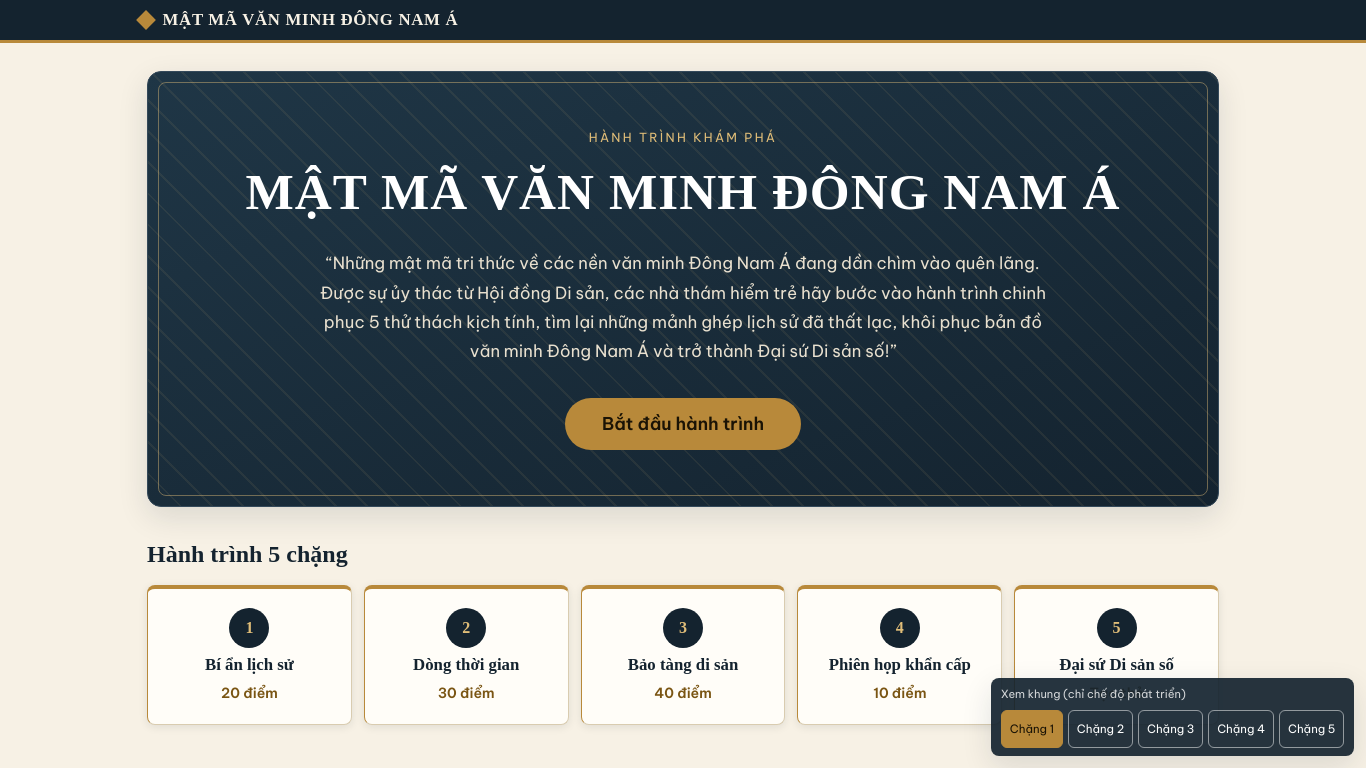
Test: Chặng 5 - Bước 1 › thiếu thông tin: hiện thông báo tại từng trường, không sang Bước 2
The image size is (1366, 768).
Click the button "Chặng 5".
click(1312, 729)  # box [1279, 710, 1344, 748]
(page scrolled)
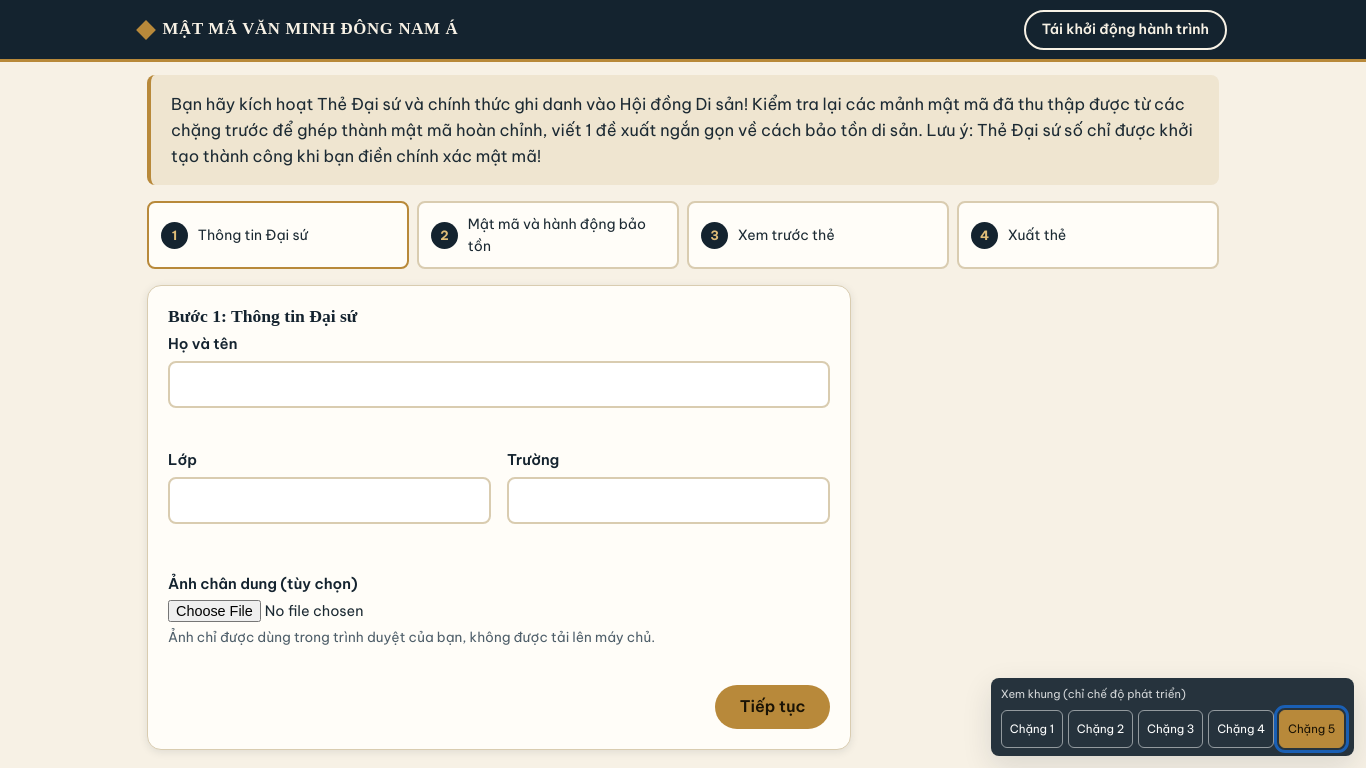
Type "An" into the field labelled "Họ và tên".
click(499, 384); type("An")  # box [168, 361, 830, 408]
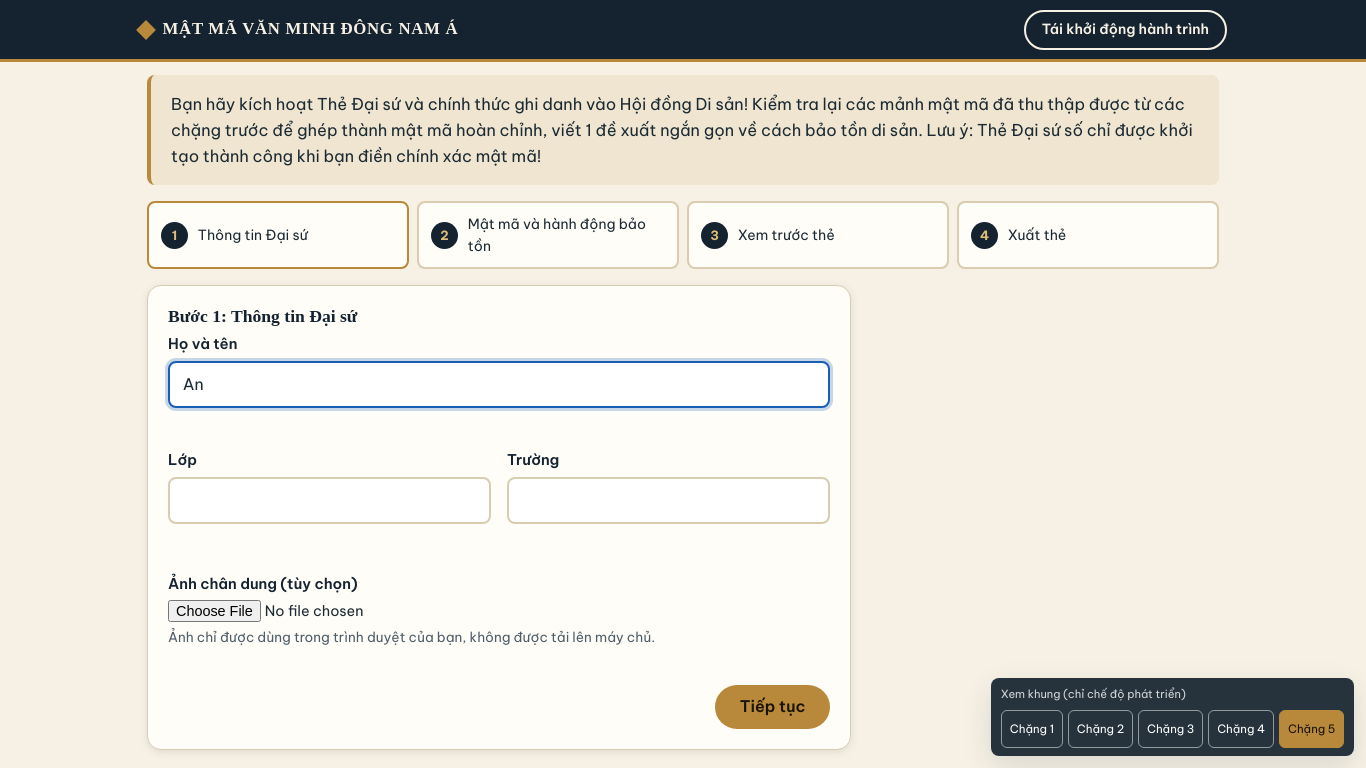
Click the button "Tiếp tục".
click(773, 707)  # box [715, 685, 830, 729]
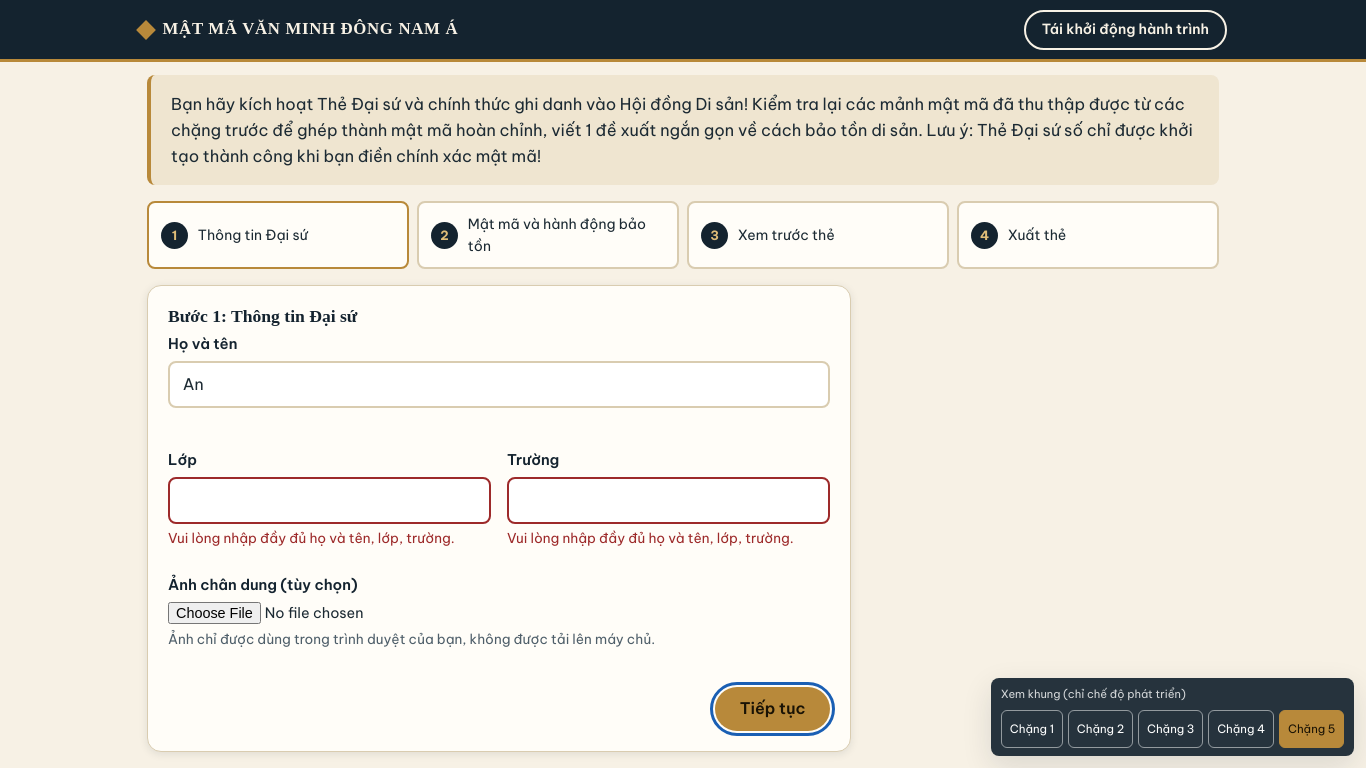
Check: the number of messages is 2, box [168, 528, 491, 550]; [507, 528, 830, 550]
Check: the 1st message "Vui lòng nhập đầy đủ họ và tên, lớp, trường." is shown, box [168, 528, 491, 550]
Check: the 2nd message "Vui lòng nhập đầy đủ họ và tên, lớp, trường." is shown, box [507, 528, 830, 550]
